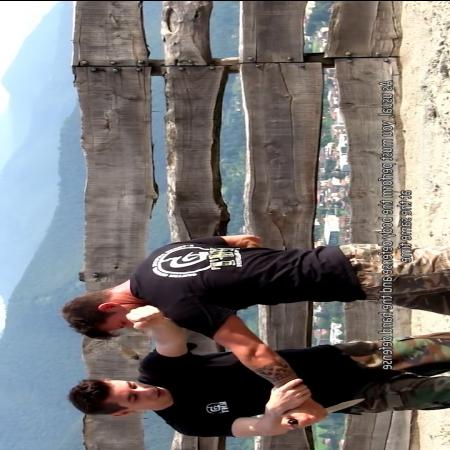long weapon: (278, 394, 368, 428)
